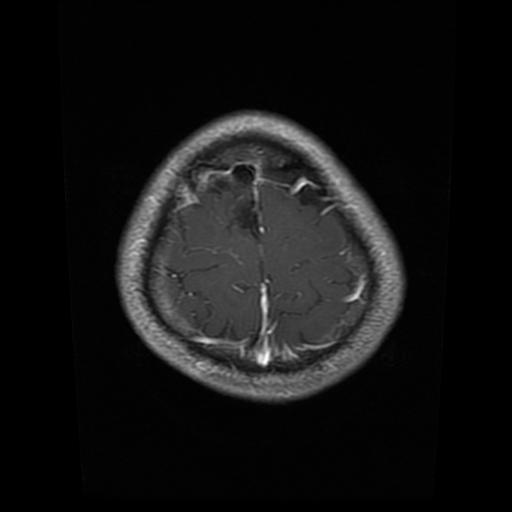Gliomia_tumour: (228, 194, 263, 237)
